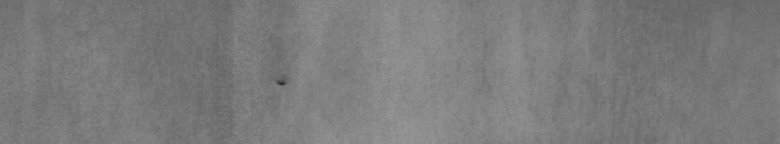fi: (273, 68, 288, 93)
